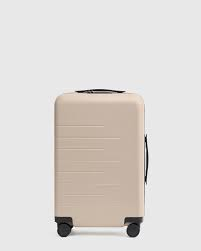suitcase: (51, 89, 152, 238)
